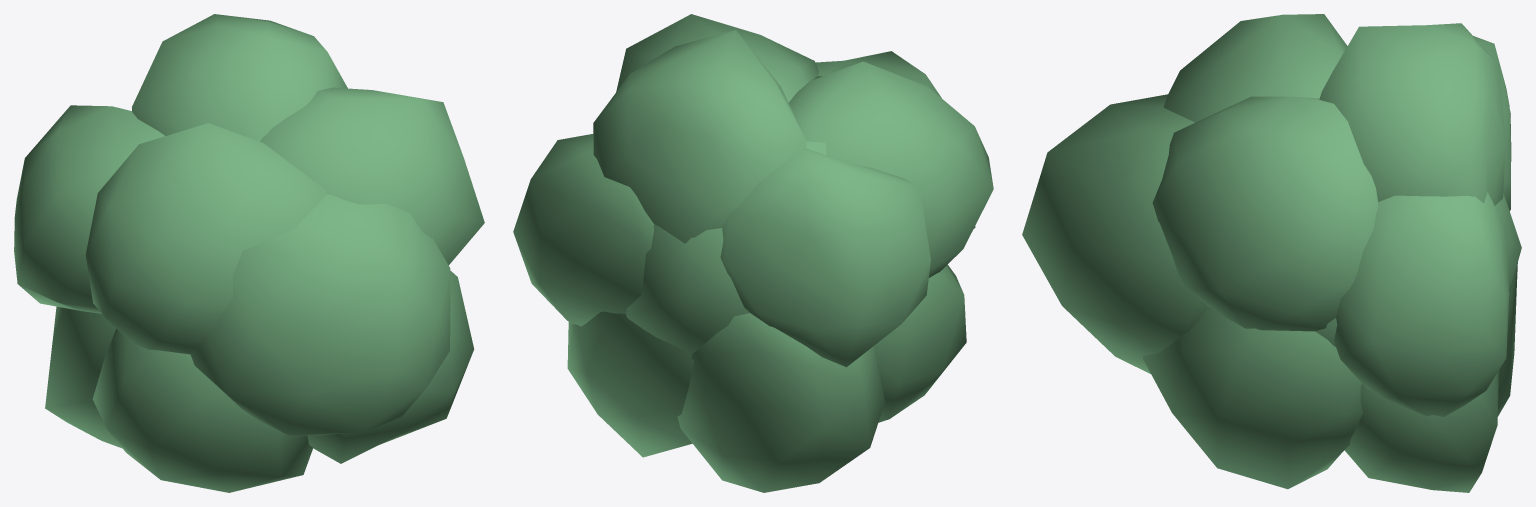
Rendered from tree_canopy.glb.
3 views of the same model, side by side, from view 1: azimuth 30°, elevation 25°; view 2: azimuth 150°, elevation 25°; view 3: azimuth 270°, elevation 25° (orthographic). The views are drawn at different scales.
Visible parts, largest first — view 1: Canopy_Node; view 2: Canopy_Node; view 3: Canopy_Node.
Part boxes in pixels (x1=…): Canopy_Node: x1=14, y1=14, x2=484, y2=492; Canopy_Node: x1=513, y1=14, x2=993, y2=492; Canopy_Node: x1=1022, y1=14, x2=1521, y2=492.
Bounding box in the file's own units: 1 × 0.9918 × 1.
